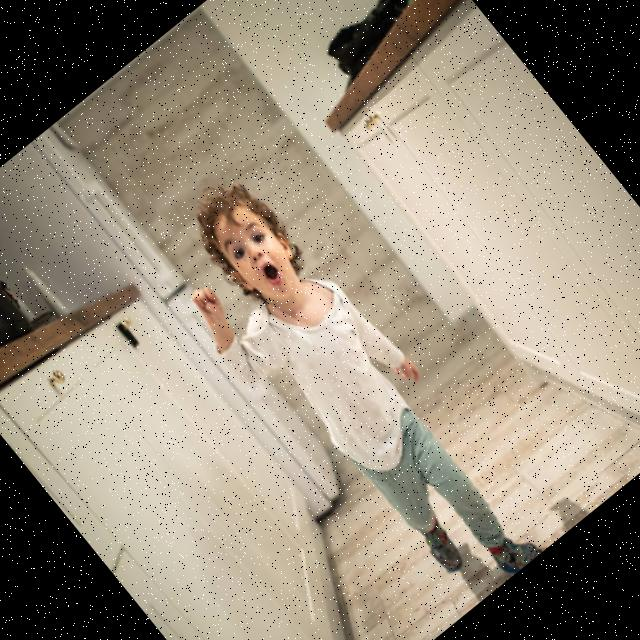Person: (140, 166, 557, 632)
